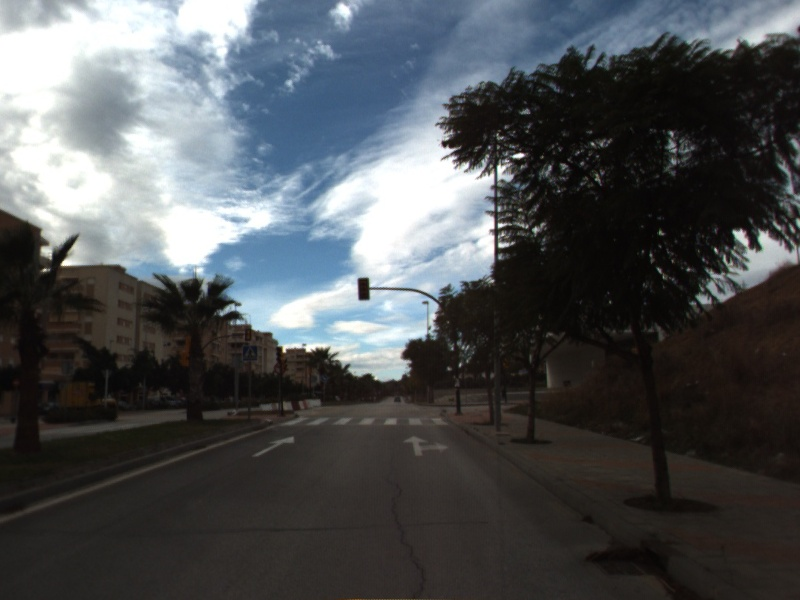STRAIGHT: (250, 434, 297, 459)
STRAIGHT_RIGHT: (401, 433, 451, 458)
